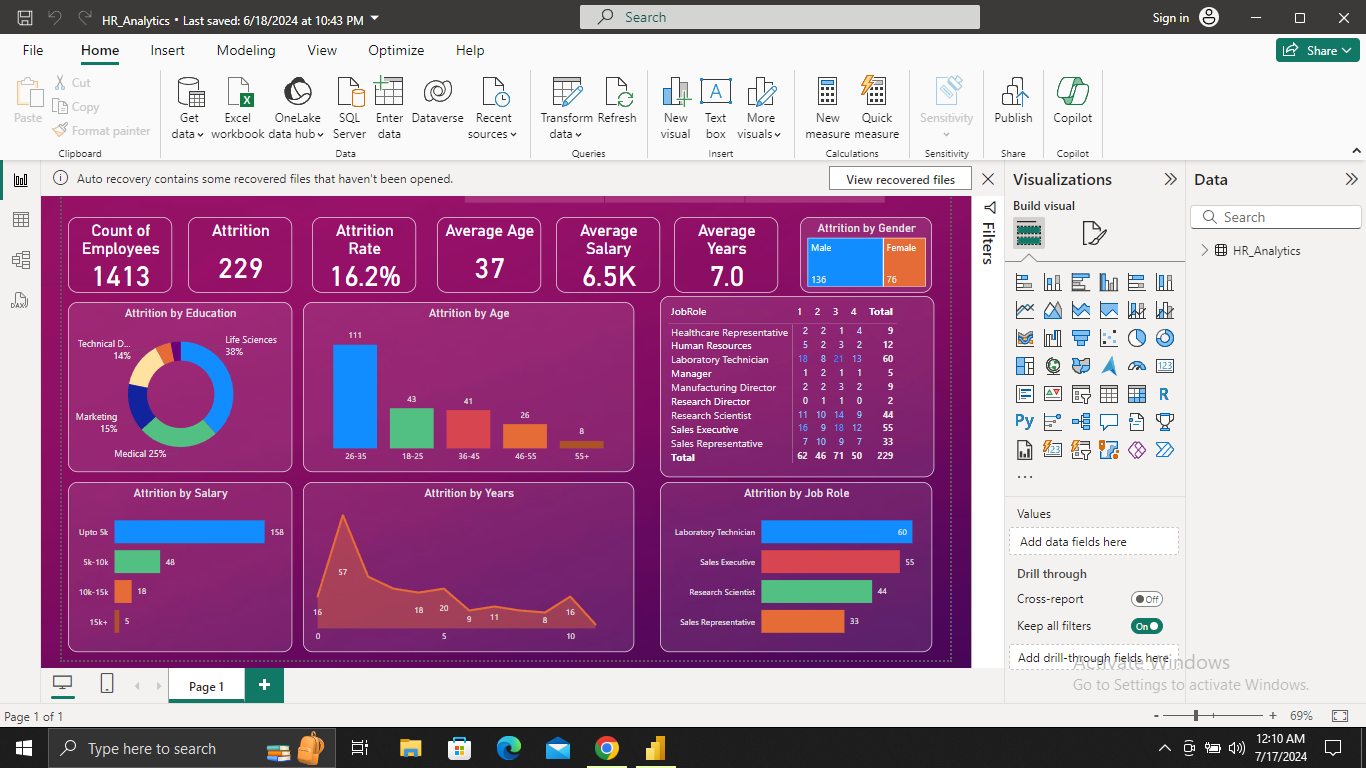

The page's visual inventory and layout, read from the dashboard file:
{"tool":"powerbi","page":{"name":"Page 1","canvas":[1280,720],"ordinal":0},"visuals":[{"type":"card","title":"Count of Employees","fields":{"Values":["CountNonNull(HR_Analytics.EmpID)"]},"box":[8.6,82.1,149.8,109.4],"z":0},{"type":"card","title":"Attrition","fields":{"Values":["Sum(HR_Analytics.attritionColumn)"]},"box":[181.4,82.1,149.8,109.4],"z":1000},{"type":"card","title":"Average Age","fields":{"Values":["Avg(HR_Analytics.Age)"]},"box":[540,82.1,149.8,109.4],"z":2000},{"type":"card","title":"Attrition Rate","fields":{"Values":["HR_Analytics.attritionRate"]},"box":[360,82.1,149.8,109.4],"z":3000},{"type":"card","title":"Average Salary","fields":{"Values":["Avg(HR_Analytics.MonthlyIncome)"]},"box":[711.4,82.1,149.8,109.4],"z":4000},{"type":"card","title":"Average Years","fields":{"Values":["Avg(HR_Analytics.YearsAtCompany)"]},"box":[881.3,82.1,149.8,109.4],"z":5000},{"type":"donutChart","title":"Attrition by Education","fields":{"Category":["HR_Analytics.EducationField"],"Y":["Sum(HR_Analytics.attritionColumn)"]},"box":[8.6,204.5,322.6,244.8],"z":6000},{"type":"columnChart","title":"Attrition by Age","fields":{"Category":["HR_Analytics.AgeGroup"],"Y":["Sum(HR_Analytics.attritionCount)"]},"box":[347,204.5,476.6,244.8],"z":7000},{"type":"pivotTable","fields":{"Rows":["HR_Analytics.JobRole"],"Columns":["HR_Analytics.JobSatisfaction"],"Values":["Sum(HR_Analytics.attritionCount)"]},"box":[861.1,195.8,394.6,260.6],"z":8000},{"type":"barChart","title":"Attrition by Salary","fields":{"Category":["HR_Analytics.SalarySlab"],"Y":["Sum(HR_Analytics.attritionCount)"]},"box":[8.6,463.7,322.6,244.8],"z":9000},{"type":"barChart","title":"Attrition by Job Role","fields":{"Category":["HR_Analytics.JobRole"],"Y":["Sum(HR_Analytics.attritionCount)"]},"box":[861.1,463.7,391.7,244.8],"z":10000},{"type":"stackedAreaChart","title":"Attrition by Years","fields":{"Category":["HR_Analytics.YearsAtCompany"],"Y":["Sum(HR_Analytics.attritionCount)"]},"box":[347,463.7,476.6,244.8],"z":11000},{"type":"treemap","title":"Attrition by Gender","fields":{"Group":["HR_Analytics.Gender"],"Values":["Sum(HR_Analytics.attritionCount)"]},"box":[1062.7,82.1,190.1,109.4],"z":12000},{"type":"slicer","fields":{"Values":["HR_Analytics.Department"]},"box":[554.4,10.1,653.8,57.6],"z":13000},{"type":"textbox","box":[0,0,554.4,56.2],"z":14000}]}

Visuals, with their boxes on the page's 1280x720 design canvas (x1, y1, x2, y2). These are canvas units, not pixel positions in the 1366x768 screenshot, which may show the page scaled, cropped or inside an application window:
"Count of Employees" card: x1=9, y1=82, x2=158, y2=192
"Attrition" card: x1=181, y1=82, x2=331, y2=192
"Average Age" card: x1=540, y1=82, x2=690, y2=192
"Attrition Rate" card: x1=360, y1=82, x2=510, y2=192
"Average Salary" card: x1=711, y1=82, x2=861, y2=192
"Average Years" card: x1=881, y1=82, x2=1031, y2=192
"Attrition by Education" donutChart: x1=9, y1=204, x2=331, y2=449
"Attrition by Age" columnChart: x1=347, y1=204, x2=824, y2=449
pivotTable - HR_Analytics.JobRole x HR_Analytics.JobSatisfaction: x1=861, y1=196, x2=1256, y2=456
"Attrition by Salary" barChart: x1=9, y1=464, x2=331, y2=708
"Attrition by Job Role" barChart: x1=861, y1=464, x2=1253, y2=708
"Attrition by Years" stackedAreaChart: x1=347, y1=464, x2=824, y2=708
"Attrition by Gender" treemap: x1=1063, y1=82, x2=1253, y2=192
slicer - HR_Analytics.Department: x1=554, y1=10, x2=1208, y2=68
textbox: x1=0, y1=0, x2=554, y2=56
